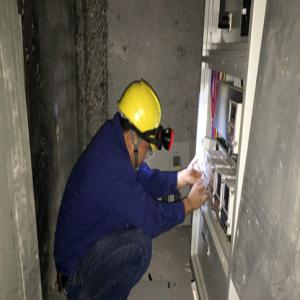yellow: (117, 80, 164, 171)
